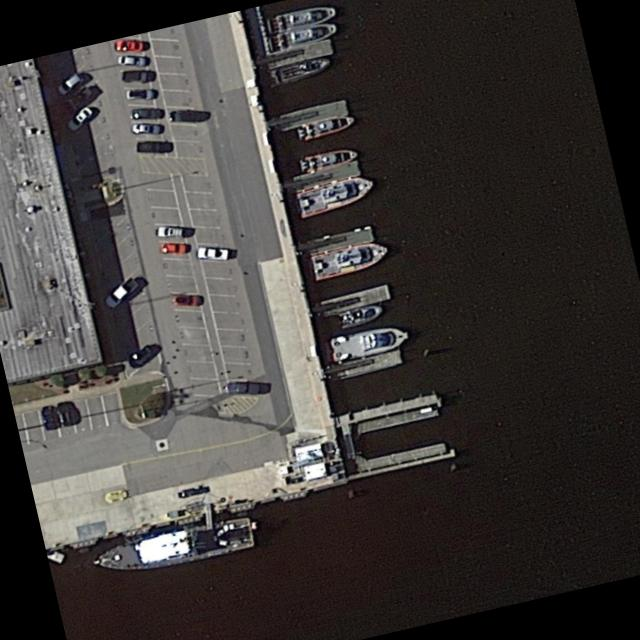ship: (87, 514, 256, 582), (293, 171, 376, 220), (308, 238, 390, 282), (327, 325, 410, 365), (264, 3, 335, 36), (266, 20, 336, 51), (266, 56, 329, 87), (295, 146, 358, 176), (294, 113, 357, 143), (335, 302, 382, 330)
small-vehicle: (101, 275, 139, 311), (53, 69, 86, 98), (123, 342, 156, 371), (63, 103, 94, 133), (63, 83, 93, 112), (167, 107, 209, 124), (54, 399, 75, 429), (38, 403, 57, 433), (222, 382, 260, 396), (195, 246, 228, 261), (134, 141, 171, 154), (124, 87, 157, 101), (129, 121, 162, 135), (130, 107, 162, 121), (119, 70, 151, 84), (156, 242, 186, 256), (115, 54, 145, 67), (113, 40, 144, 52), (169, 295, 200, 307), (155, 226, 183, 237)
